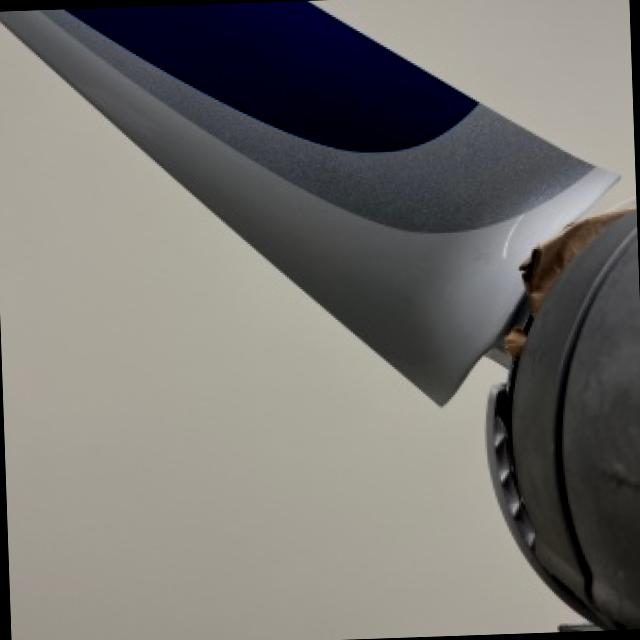healthy: (0, 22, 578, 640), (313, 0, 634, 208), (485, 211, 640, 628)
